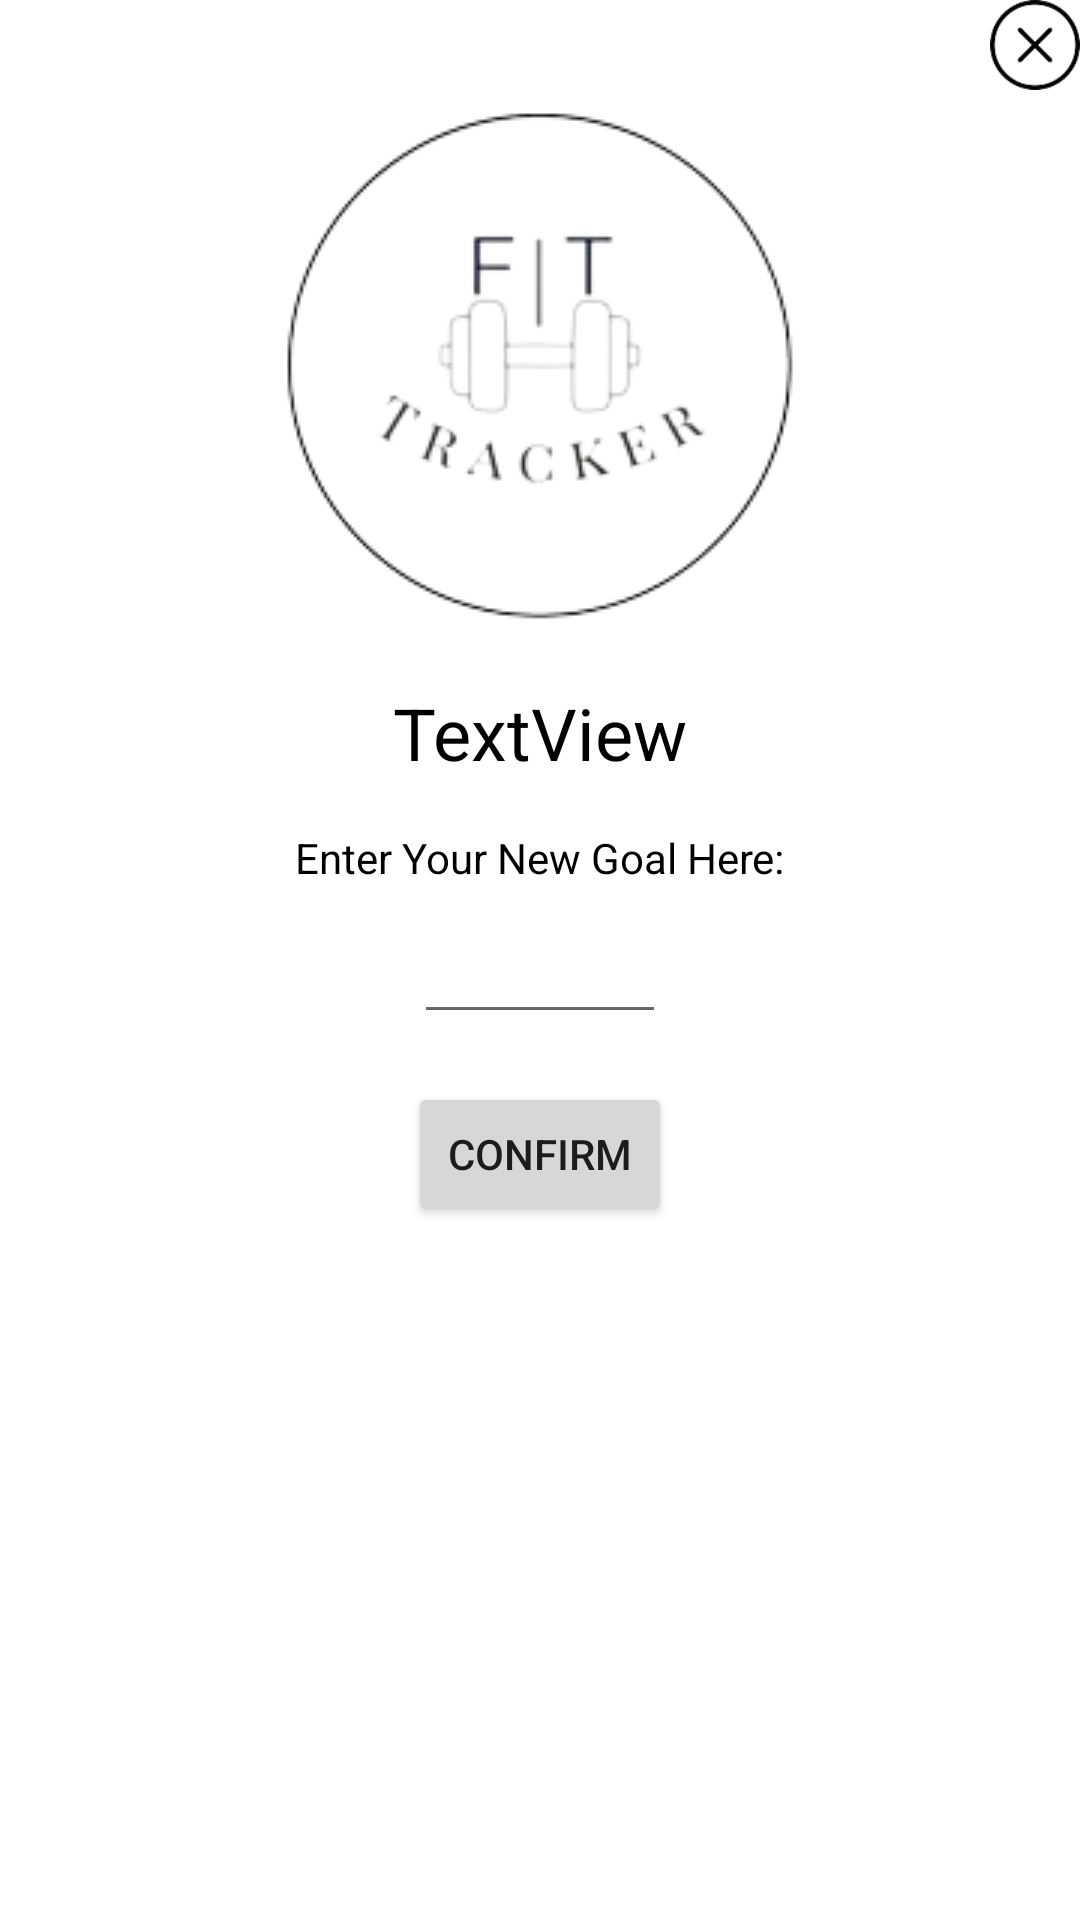

Icon click points for this 1080*1920 phone screenshot, format (x=x, y=y):
close: (x=1035, y=45)
